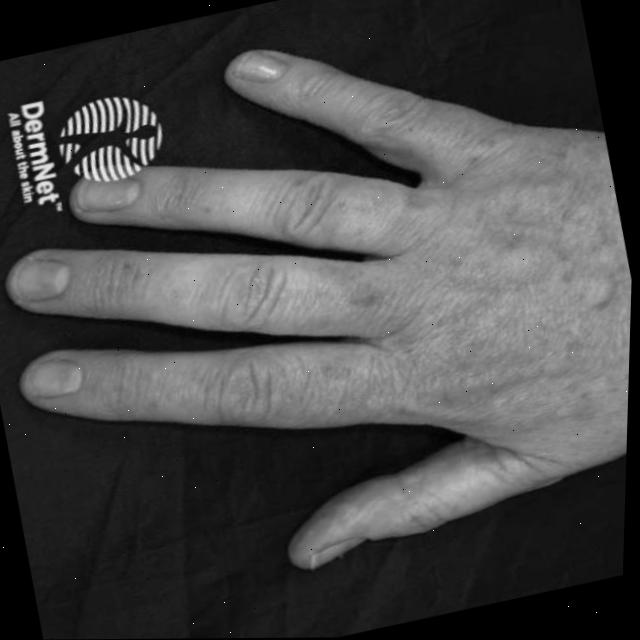Eczema: (236, 200, 594, 447)
